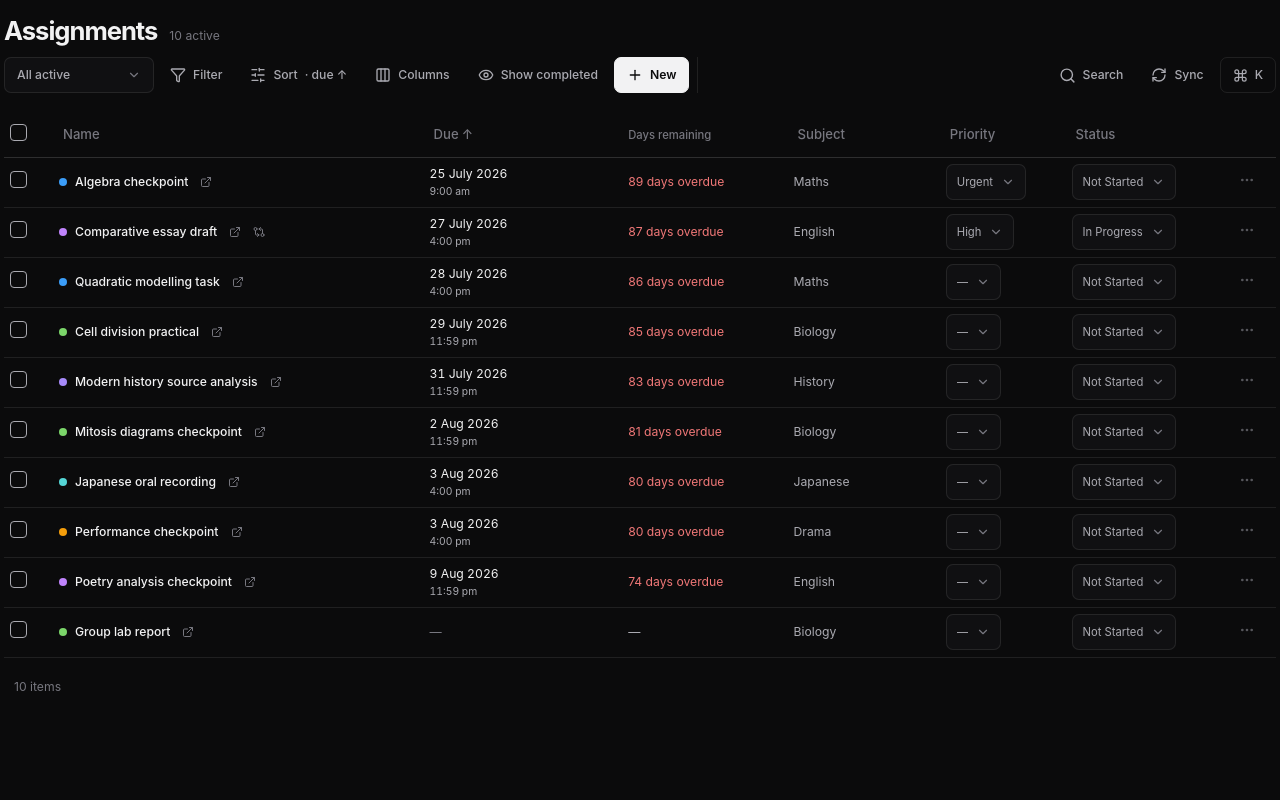
Assignment controls › uses the custom date picker in the create form
Click the button "New".
click(652, 75)  # box x1=614 y1=57 x2=690 y2=93
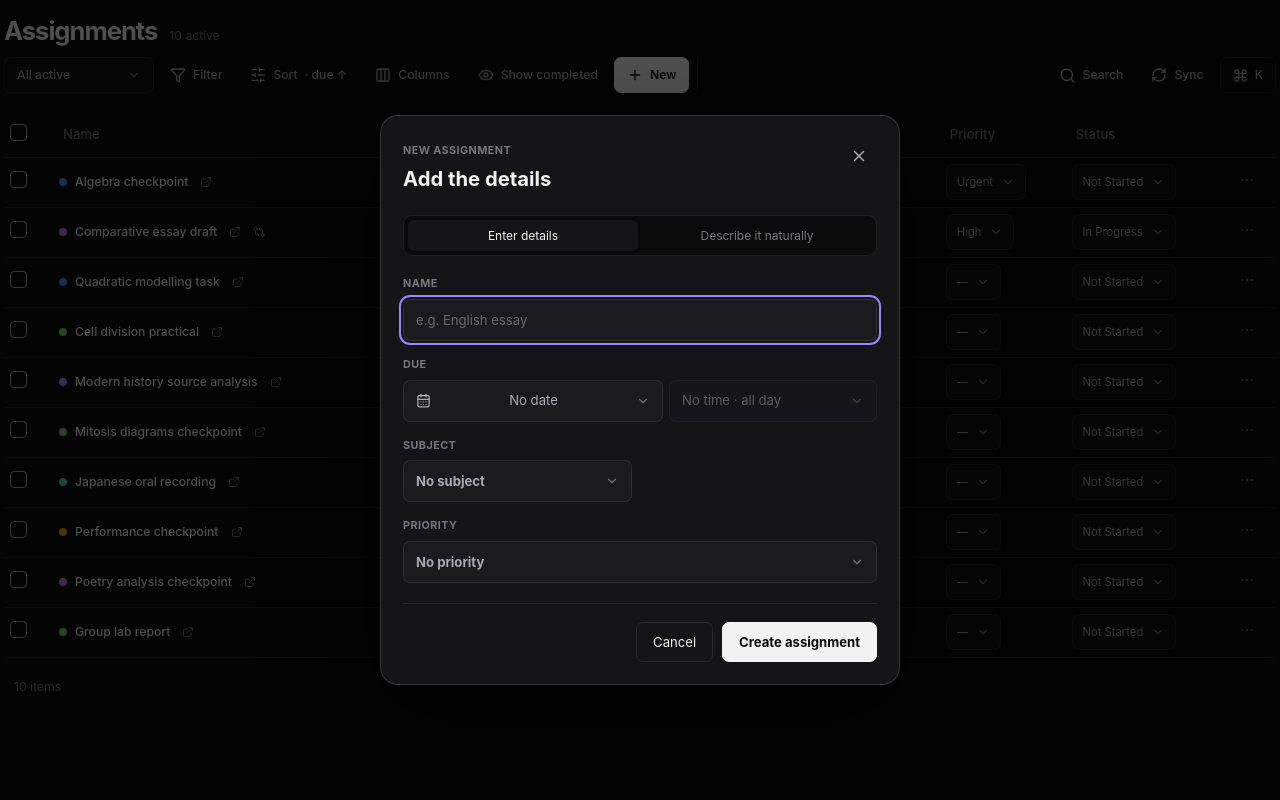
Expected: the dialog "Add the details" is shown, x1=380 y1=115 x2=900 y2=685
Click the button with aria-label "Due date".
click(533, 401)  # box x1=403 y1=380 x2=663 y2=422
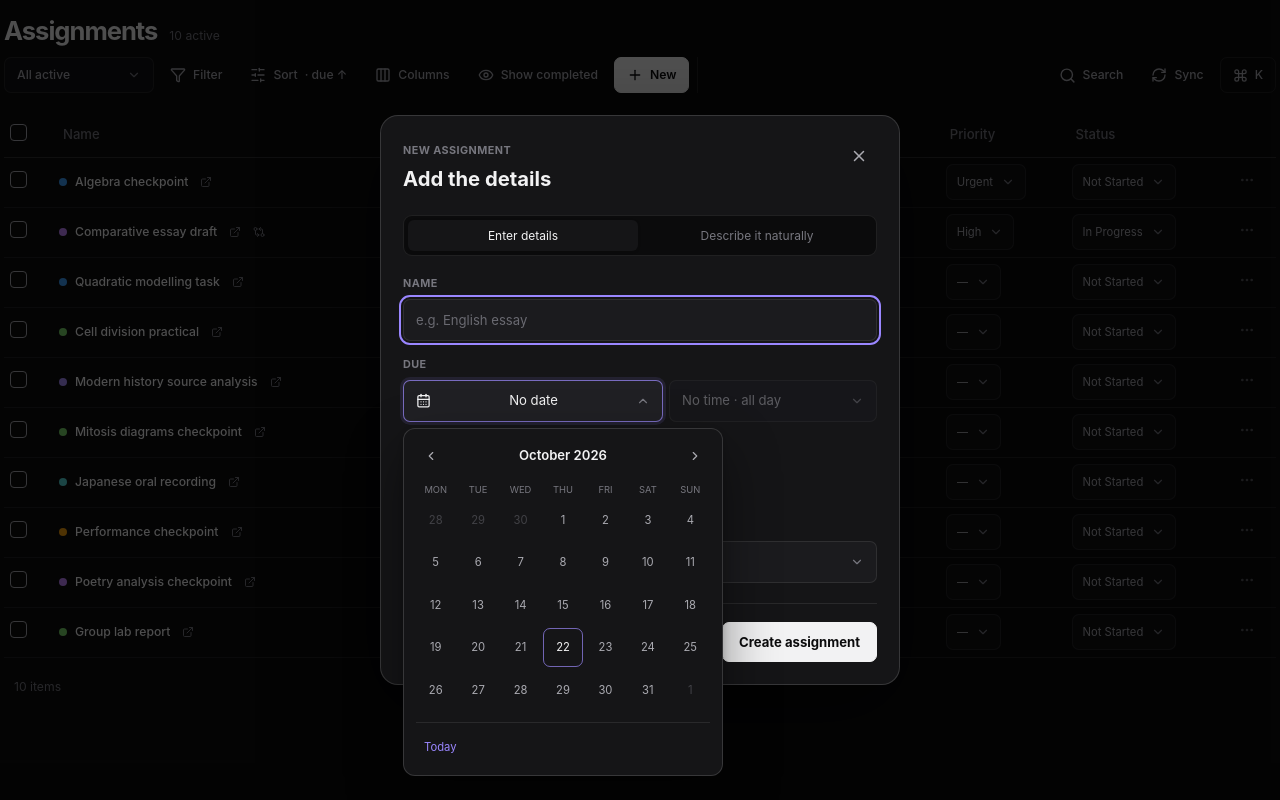
Expected: the dialog named "Due date calendar" is shown, x1=403 y1=428 x2=723 y2=776
Expected: the button named "Previous month" is shown, x1=416 y1=441 x2=446 y2=471
Expected: the button "Today" is shown, x1=416 y1=732 x2=464 y2=762
